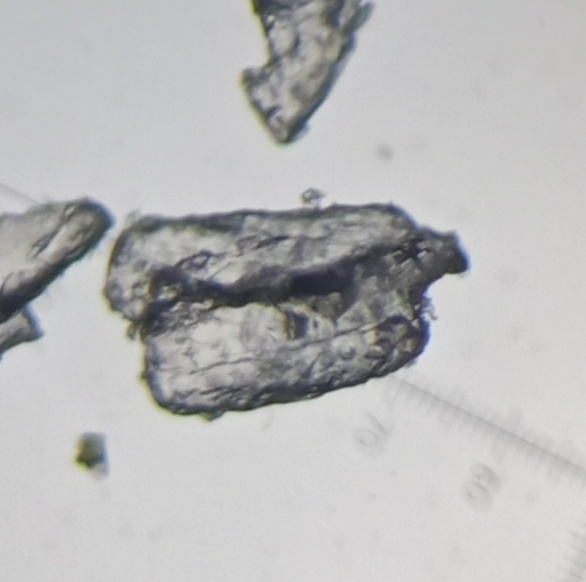microplastic: (103, 202, 480, 414), (229, 1, 380, 151), (1, 194, 113, 366)
